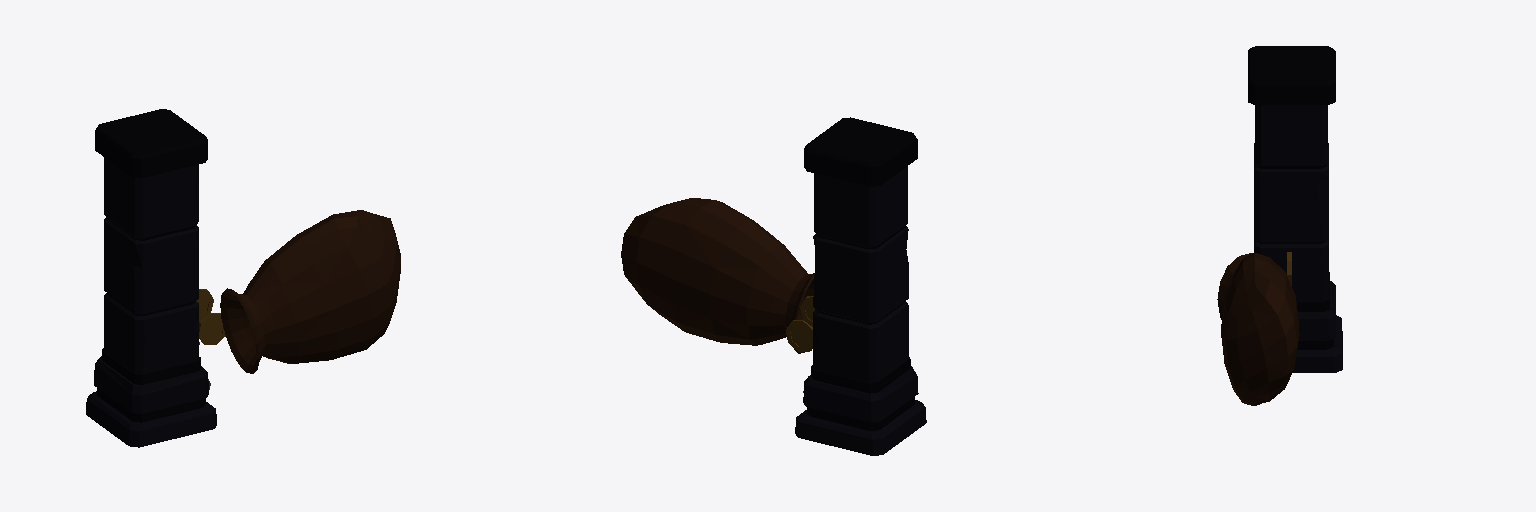
The model's file is Column_Cube.obj.
3 renders of one model, left to right at view 1: azimuth 30°, elevation 25°; view 2: azimuth 150°, elevation 25°; view 3: azimuth 270°, elevation 25°, orthographic.
Parts seen in each view (by area): view 1: Column_Cube.083, Bag_Coins_Cylinder.001; view 2: Column_Cube.083, Bag_Coins_Cylinder.001; view 3: Column_Cube.083, Bag_Coins_Cylinder.001.
Part boxes in pixels (left/top/right/bottom): Column_Cube.083: left=86, top=109, right=216, bottom=447; Bag_Coins_Cylinder.001: left=196, top=210, right=400, bottom=389; Column_Cube.083: left=795, top=117, right=926, bottom=455; Bag_Coins_Cylinder.001: left=621, top=198, right=814, bottom=392; Column_Cube.083: left=1248, top=46, right=1342, bottom=372; Bag_Coins_Cylinder.001: left=1217, top=252, right=1299, bottom=405.
Bounding box in the file's own units: 4.22 × 4.07 × 1.6.